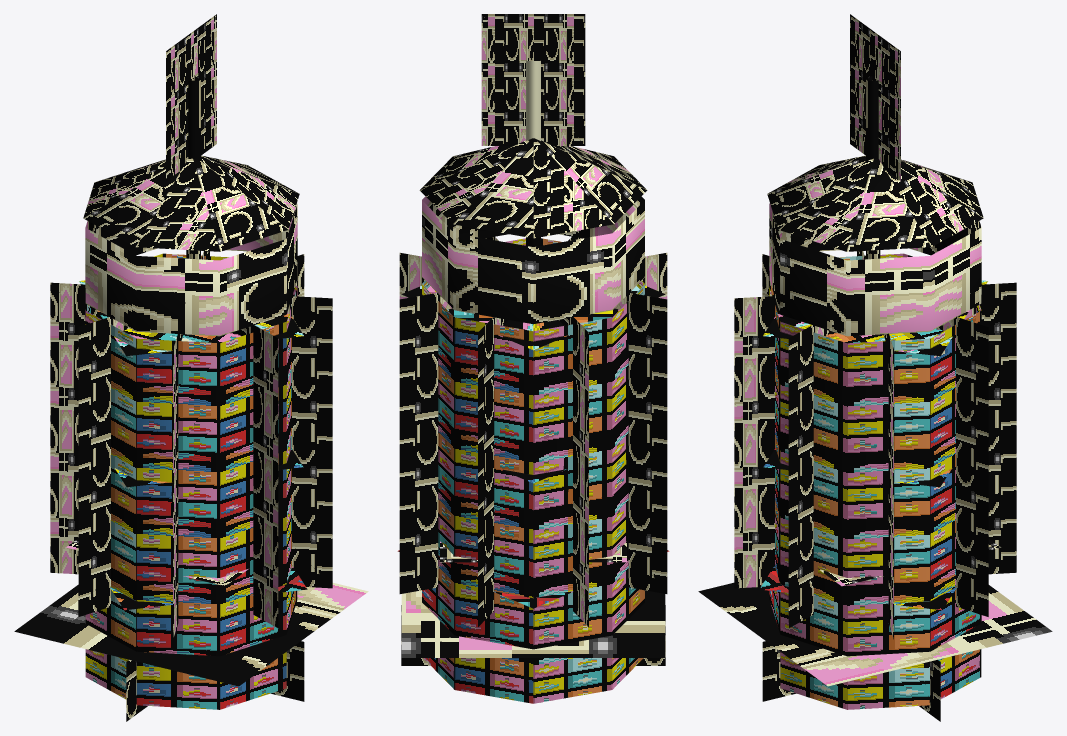
The picture shows the model from 3 angles, left to right: view 1: azimuth 30°, elevation 25°; view 2: azimuth 150°, elevation 25°; view 3: azimuth 270°, elevation 25°; orthographic projection.
Parts seen in each view (by area): view 1: 3813kg_sh1_36; view 2: 3813kg_sh1_36; view 3: 3813kg_sh1_36.
Boxes of the visible parts, box(x1,y1,x2,y2) form: 3813kg_sh1_36: box(14, 14, 368, 721); 3813kg_sh1_36: box(397, 14, 669, 703); 3813kg_sh1_36: box(698, 14, 1052, 721).
Bounding box in the file's own units: 0.7656 × 1.53 × 0.7656.
3 materials, 3 textured.
